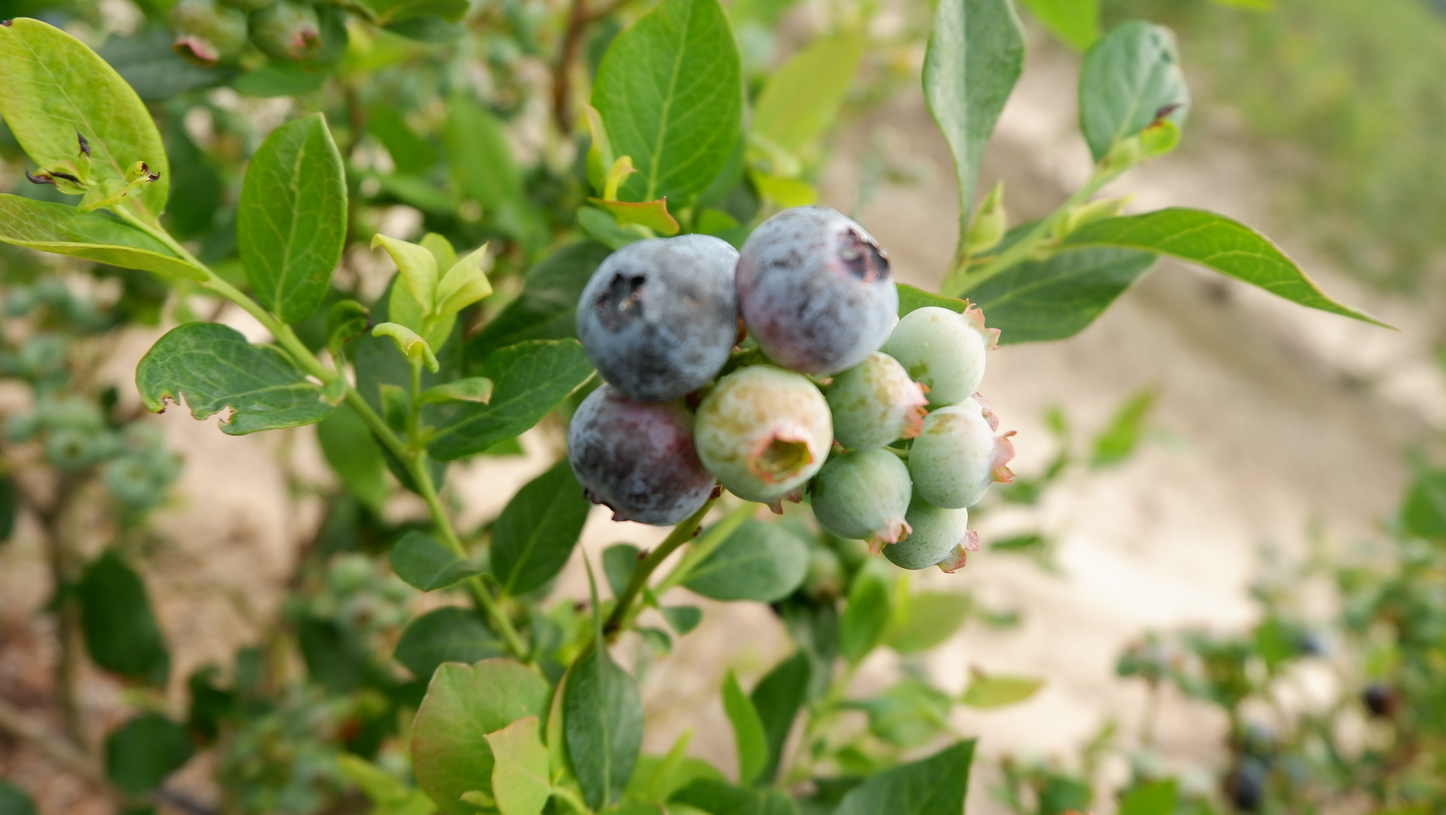Immature: (694, 364, 834, 514), (887, 306, 1000, 416), (909, 406, 1017, 509), (810, 449, 913, 553), (826, 351, 928, 451), (883, 479, 979, 574), (938, 392, 999, 432)
Mature: (735, 204, 899, 377), (572, 239, 737, 402), (565, 382, 718, 526), (671, 234, 742, 319)
